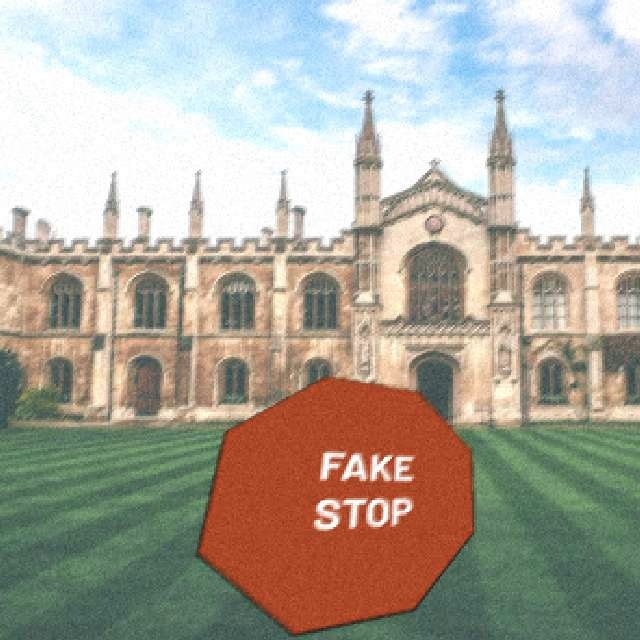FAKE_STOP: (196, 374, 476, 636)
